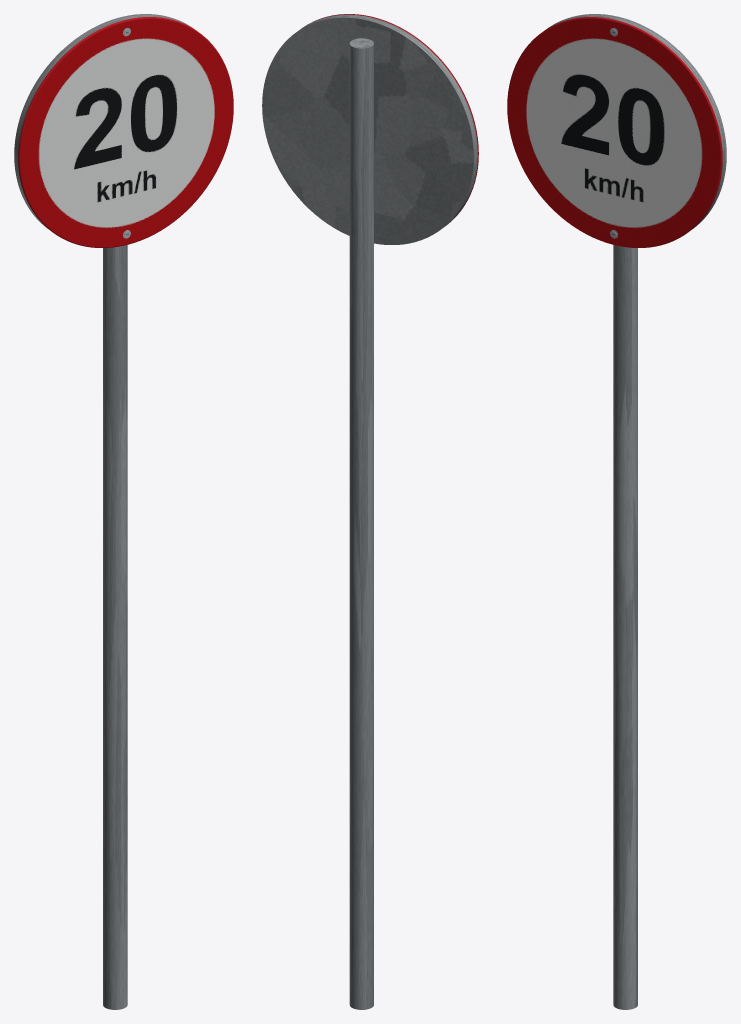
The model's file is placa_20kmh.glb.
The picture shows the model from 3 angles, left to right: view 1: azimuth 30°, elevation 25°; view 2: azimuth 150°, elevation 25°; view 3: azimuth 330°, elevation 25°; orthographic projection.
Visible parts, largest first — view 1: Face impressa 20 kmh, Poste galvanizado, Chapa circular de suporte, Borda vermelha da chapa; view 2: Chapa circular de suporte, Poste galvanizado; view 3: Face impressa 20 kmh, Poste galvanizado, Chapa circular de suporte, Borda vermelha da chapa.
Part boxes in pixels (box(x1,y1,x2,y2)): Face impressa 20 kmh: box(20, 19, 232, 247); Poste galvanizado: box(103, 245, 127, 1009); Chapa circular de suporte: box(14, 14, 194, 229); Borda vermelha da chapa: box(18, 17, 233, 247); Chapa circular de suporte: box(262, 14, 477, 244); Poste galvanizado: box(349, 44, 373, 1009); Face impressa 20 kmh: box(508, 19, 720, 247); Poste galvanizado: box(613, 245, 637, 1009); Chapa circular de suporte: box(546, 14, 726, 229); Borda vermelha da chapa: box(507, 17, 722, 247).
Bounding box in the file's own units: 0.6 × 2.65 × 0.0885.
Materials: 5 (2 with a texture image).
